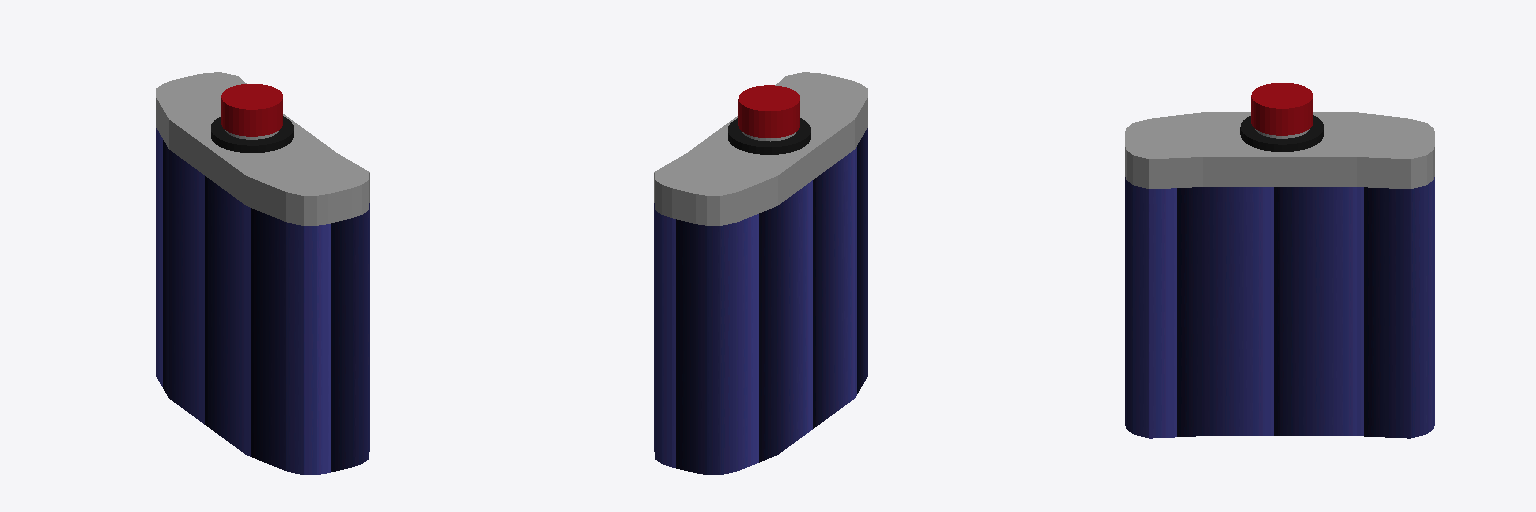
The picture shows the model from 3 angles: view 1: azimuth 30°, elevation 25°; view 2: azimuth 150°, elevation 25°; view 3: azimuth 270°, elevation 25°; orthographic projection.
Visible parts, largest first — view 1: Cylinder.002; view 2: Cylinder.002; view 3: Cylinder.002.
Part boxes in pixels (x1,y1,x2,y2): Cylinder.002: (156,72,369,474); Cylinder.002: (654,72,867,474); Cylinder.002: (1125,83,1434,438).
Size of the model in its own units: 2.67 by 8.39 by 7.43.
Materials: 5 (1 with a texture image).